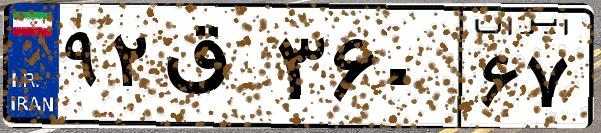0: (385, 28, 445, 110)
2: (110, 28, 158, 98)
3: (270, 28, 330, 110)
6: (330, 28, 385, 110), (475, 38, 525, 113)
7: (525, 38, 570, 115)
9: (57, 26, 110, 100)
ق: (158, 20, 270, 120)
